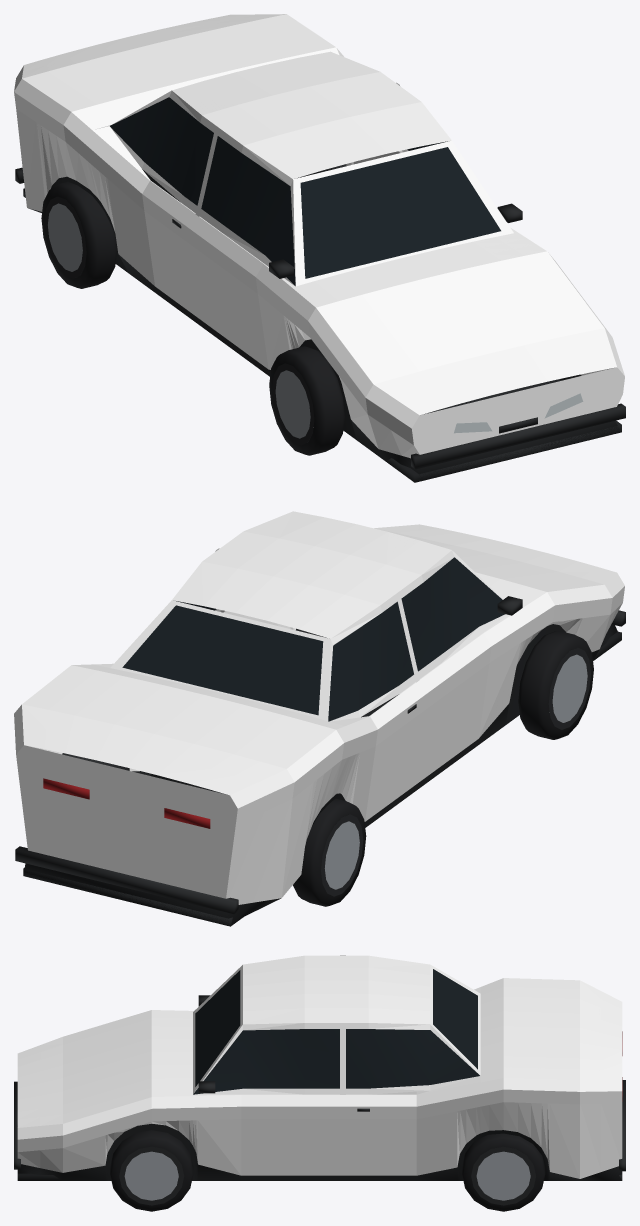
Rendered from ostwerk_aresta.glb.
The picture shows the model from 3 angles, top to bottom: view 1: azimuth 30°, elevation 25°; view 2: azimuth 150°, elevation 25°; view 3: azimuth 270°, elevation 25°; orthographic projection. The views are drawn at different scales.
Visible parts, largest first — view 1: Body_Paint, Body_Details, Mount_FrontLeft_Wheel_Details, Mount_RearLeft_Wheel_Details; view 2: Body_Paint, Body_Details, Mount_FrontLeft_Wheel_Details, Mount_RearLeft_Wheel_Details; view 3: Body_Paint, Body_Details, Mount_FrontRight_Wheel_Details, Mount_RearRight_Wheel_Details.
Part boxes in pixels (left/top/right/bottom): Body_Paint: left=14, top=14, right=624, bottom=458; Body_Details: left=15, top=97, right=625, bottom=482; Mount_FrontLeft_Wheel_Details: left=269, top=346, right=344, bottom=455; Mount_RearLeft_Wheel_Details: left=41, top=182, right=117, bottom=288; Body_Paint: left=14, top=511, right=624, bottom=904; Body_Details: left=15, top=557, right=625, bottom=926; Mount_FrontLeft_Wheel_Details: left=518, top=630, right=593, bottom=739; Mount_RearLeft_Wheel_Details: left=293, top=798, right=366, bottom=906; Body_Paint: left=17, top=955, right=622, bottom=1178; Body_Details: left=14, top=969, right=625, bottom=1180; Mount_FrontRight_Wheel_Details: left=110, top=1130, right=193, bottom=1211; Mount_RearRight_Wheel_Details: left=462, top=1133, right=545, bottom=1211.
Size of the model in its own units: 1.95 by 1.5 by 4.76.
2 materials, 1 textured.
